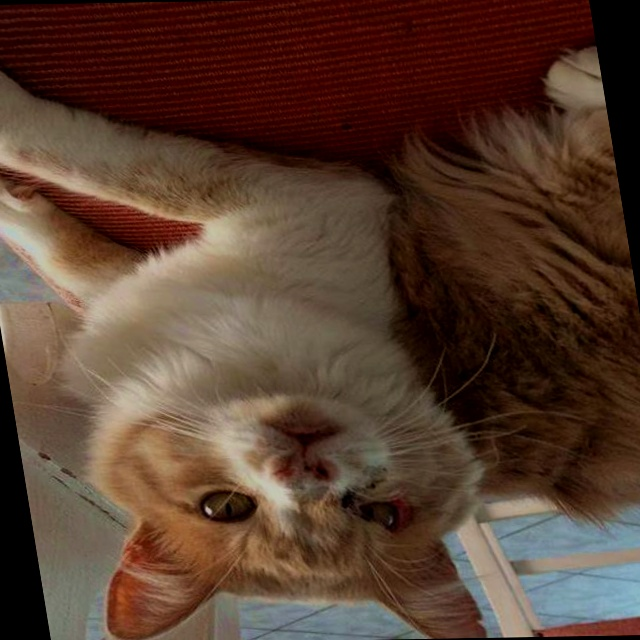eye_infection: (354, 494, 412, 540)
